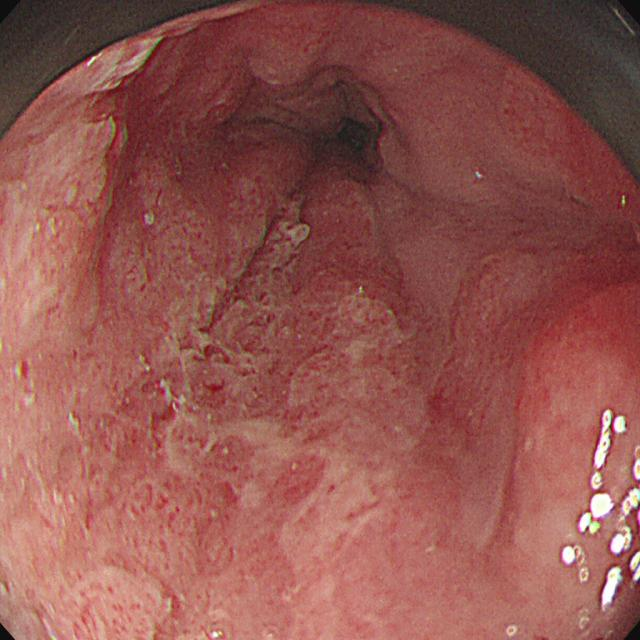A: (160, 200, 422, 640), (2, 34, 160, 640), (453, 238, 638, 509)
U: (559, 409, 640, 613)
